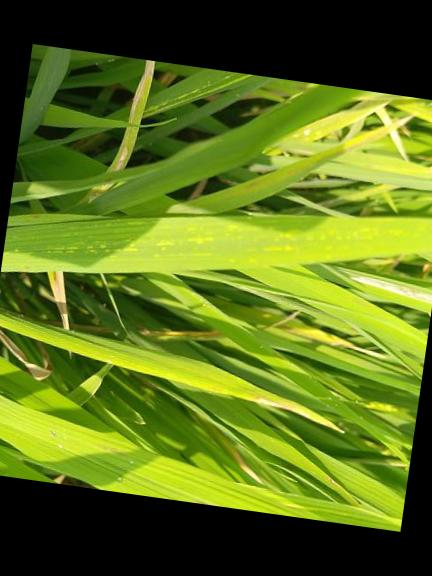Leaf Streak: (0, 211, 432, 275), (103, 59, 154, 172), (345, 271, 432, 315), (49, 272, 67, 330), (85, 181, 110, 203), (170, 498, 222, 507)
